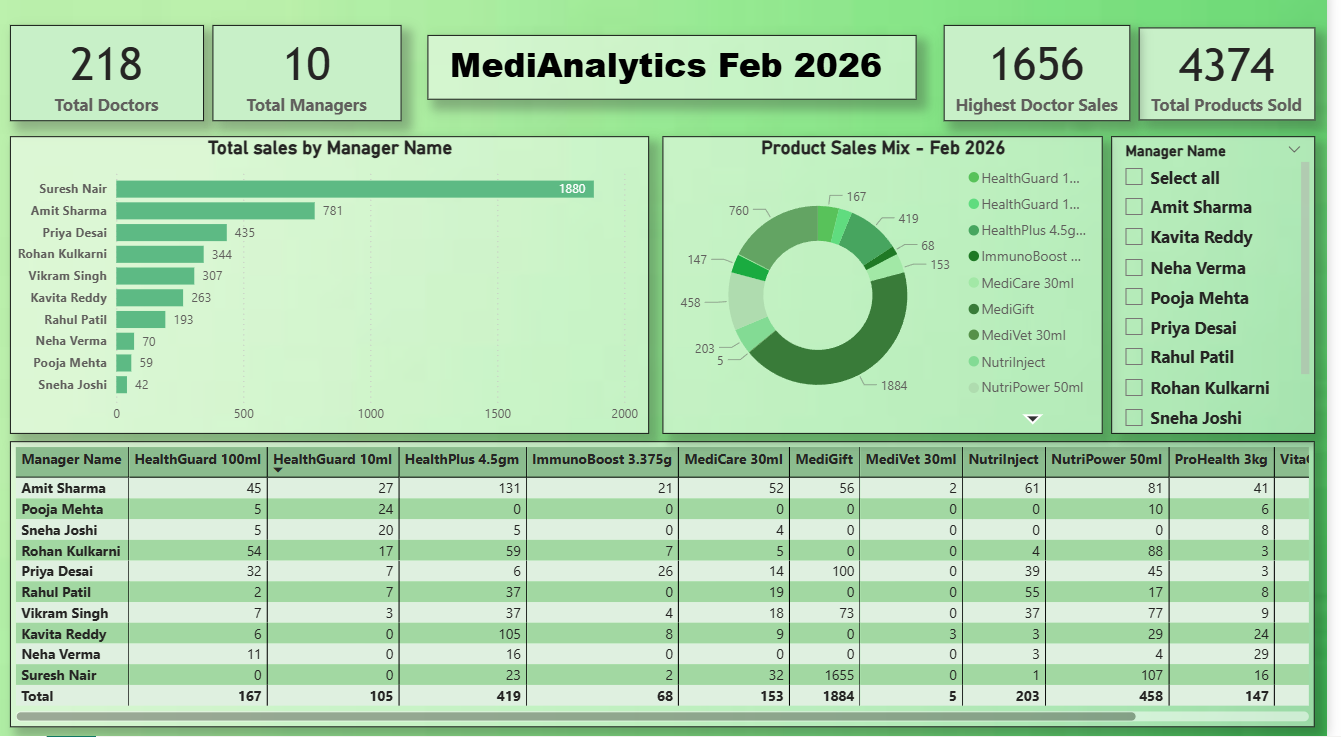

The page's visual inventory and layout, read from the dashboard file:
{"tool":"powerbi","page":{"name":"Page 1","canvas":[1280,720],"ordinal":0},"visuals":[{"type":"card","fields":{"Values":["Sum(Product_Analysis_Feb2026.Total)"]},"box":[1099.1,36.2,170.1,89.3],"z":0},{"type":"card","fields":{"Values":["Max(Product_Analysis_Feb2026.Total)"]},"box":[910.9,33.8,179.8,92.9],"z":1000},{"type":"card","fields":{"Values":["Count(Product_Analysis_Feb2026.Doctor_ID)"]},"box":[9.7,33.8,187,92.9],"z":2000},{"type":"card","fields":{"Values":["Count(Product_Analysis_Feb2026.Rep_Name)"]},"box":[205.1,33.8,182.2,92.9],"z":3000},{"type":"clusteredBarChart","fields":{"Y":["Sum(Product_Analysis_Feb2026.Total)"],"Category":["Product_Analysis_Feb2026.Rep_Name"]},"box":[9.7,141.2,616.5,287.1],"z":4000},{"type":"pivotTable","fields":{"Rows":["Product_Analysis_Feb2026.Rep_Name"],"Values":["Sum(Product_Analysis_Feb2026.HealthGuard 100ml)","Sum(Product_Analysis_Feb2026.HealthGuard 10ml)","Sum(Product_Analysis_Feb2026.HealthPlus 4.5gm)","Sum(Product_Analysis_Feb2026.ImmunoBoost 3.375g)","Sum(Product_Analysis_Feb2026.MediCare 30ml)","Sum(Product_Analysis_Feb2026.MediGift)","Sum(Product_Analysis_Feb2026.MediVet 30ml)","Sum(Product_Analysis_Feb2026.NutriInject)","Sum(Product_Analysis_Feb2026.NutriPower 50ml)","Sum(Product_Analysis_Feb2026.ProHealth 3kg)","Sum(Product_Analysis_Feb2026.VitaCalci Combi)","Sum(Product_Analysis_Feb2026.VitaCore 1gm)"]},"box":[9.7,435.5,1259.5,276.3],"z":5000},{"type":"donutChart","title":"Product Sales Mix - Feb 2026","fields":{"Y":["Sum(Product_Analysis_Feb2026.HealthGuard 100ml)","Sum(Product_Analysis_Feb2026.HealthGuard 10ml)","Sum(Product_Analysis_Feb2026.HealthPlus 4.5gm)","Sum(Product_Analysis_Feb2026.ImmunoBoost 3.375g)","Sum(Product_Analysis_Feb2026.MediCare 30ml)","Sum(Product_Analysis_Feb2026.MediGift)","Sum(Product_Analysis_Feb2026.MediVet 30ml)","Sum(Product_Analysis_Feb2026.NutriInject)","Sum(Product_Analysis_Feb2026.NutriPower 50ml)","Sum(Product_Analysis_Feb2026.ProHealth 3kg)","Sum(Product_Analysis_Feb2026.VitaCalci Combi)","Sum(Product_Analysis_Feb2026.VitaCore 1gm)"]},"box":[639.4,141.2,424.7,287.1],"z":6000},{"type":"slicer","fields":{"Values":["Product_Analysis_Feb2026.Rep_Name"]},"box":[1072.5,141.2,196.6,287.1],"z":7000},{"type":"textbox","box":[396.9,12.1,503.1,114.6],"z":8000}]}

Visuals, with their boxes in screenshot pixels (x1, y1, x2, y2), scaled from the page's 1280x720 canvas onto the 1341x737 screenshot:
card - Sum(Product_Analysis_Feb2026.Total): [x1=1151, y1=37, x2=1330, y2=128]
card - Max(Product_Analysis_Feb2026.Total): [x1=954, y1=35, x2=1143, y2=130]
card - Count(Product_Analysis_Feb2026.Doctor_ID): [x1=10, y1=35, x2=206, y2=130]
card - Count(Product_Analysis_Feb2026.Rep_Name): [x1=215, y1=35, x2=406, y2=130]
clusteredBarChart - Sum(Product_Analysis_Feb2026.Total) x Product_Analysis_Feb2026.Rep_Name: [x1=10, y1=145, x2=656, y2=438]
pivotTable - Product_Analysis_Feb2026.Rep_Name x Sum(Product_Analysis_Feb2026.HealthGuard 100ml): [x1=10, y1=446, x2=1330, y2=729]
"Product Sales Mix - Feb 2026" donutChart: [x1=670, y1=145, x2=1115, y2=438]
slicer - Product_Analysis_Feb2026.Rep_Name: [x1=1124, y1=145, x2=1330, y2=438]
textbox: [x1=416, y1=12, x2=943, y2=130]
